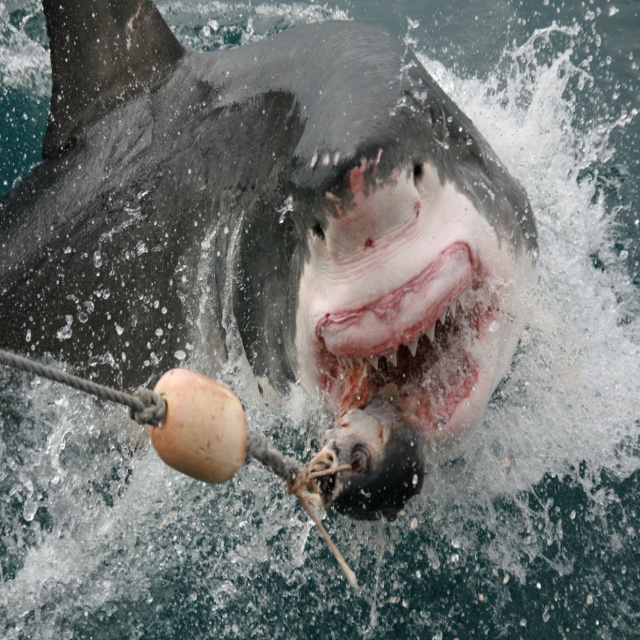Fish: (310, 395, 424, 522)
